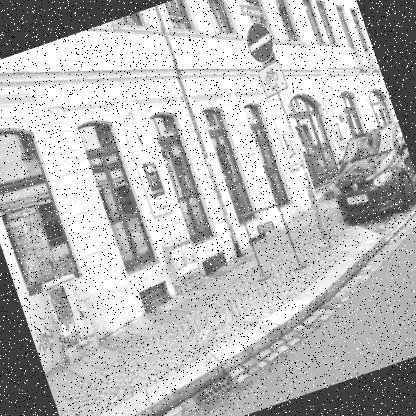Car: (317, 121, 415, 232)
